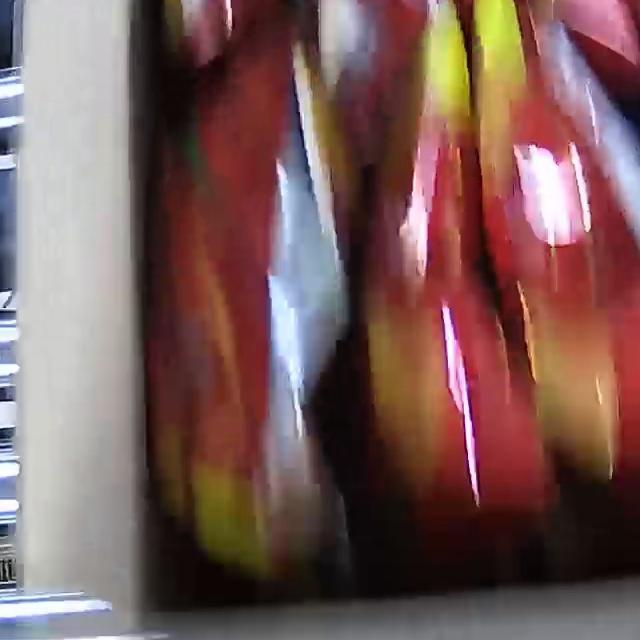masala: (136, 0, 640, 602)
